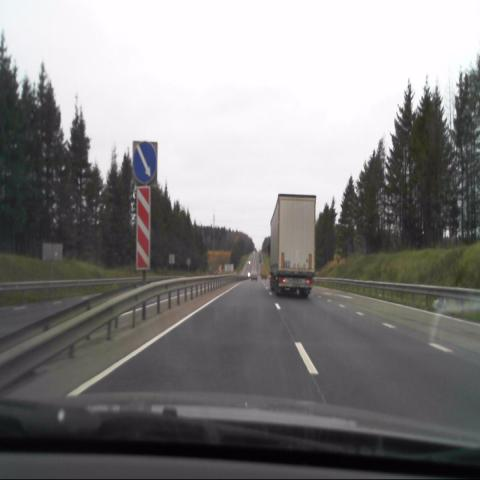4_2_1: (132, 142, 157, 188)
